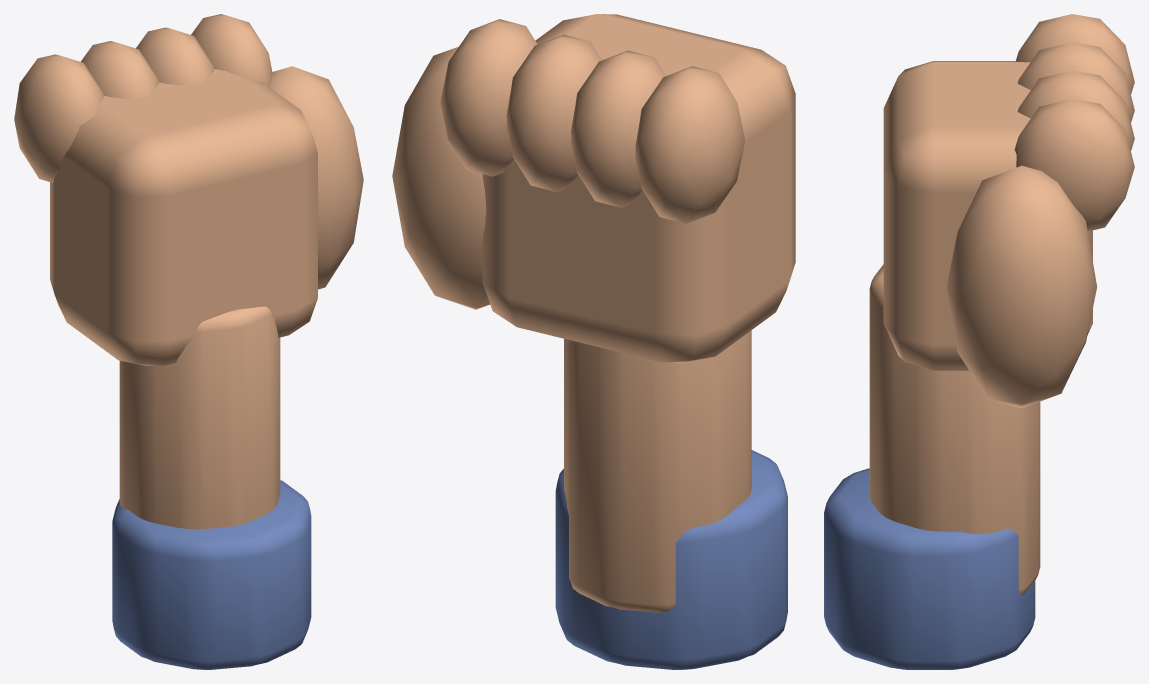
The model's file is fist.glb.
3 renders of one model, left to right at view 1: azimuth 30°, elevation 25°; view 2: azimuth 150°, elevation 25°; view 3: azimuth 270°, elevation 25°, orthographic. The views are drawn at different scales.
Visible parts, largest first — view 1: fist_skin, fist_sleeve; view 2: fist_skin, fist_sleeve; view 3: fist_skin, fist_sleeve.
Boxes of the visible parts, x1,y1,x2,y2 form: fist_skin: (14, 14, 363, 529); fist_sleeve: (112, 480, 311, 669); fist_skin: (392, 14, 795, 612); fist_sleeve: (555, 450, 787, 669); fist_skin: (869, 14, 1134, 595); fist_sleeve: (824, 468, 1035, 669).
Size of the model in its own units: 0.4379 by 0.76 by 0.3712.
